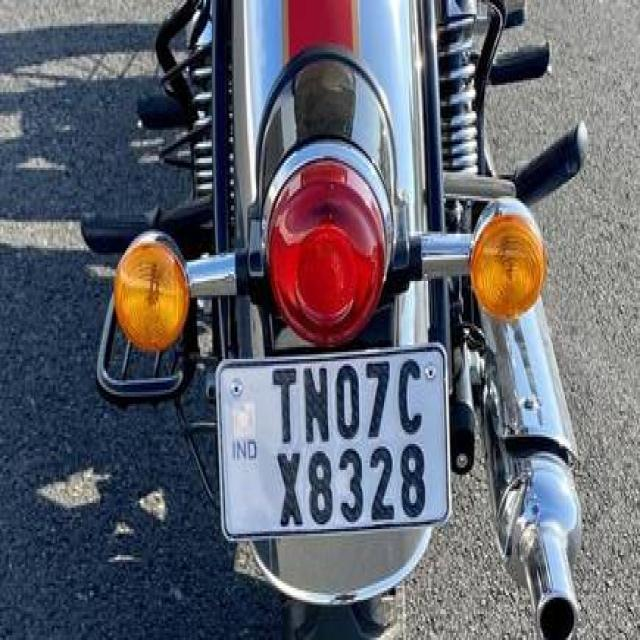number plate: (213, 340, 452, 541)
